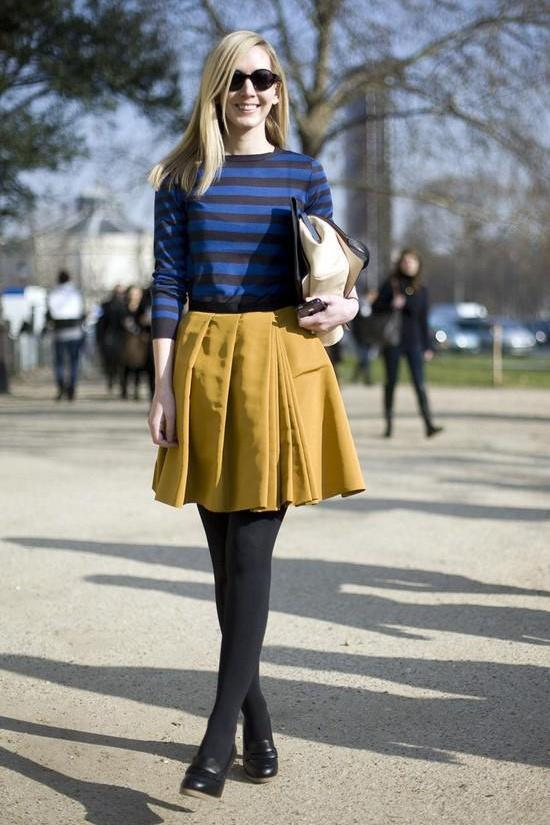Tshirt: (150, 144, 332, 338)
skirt: (148, 312, 367, 512)
